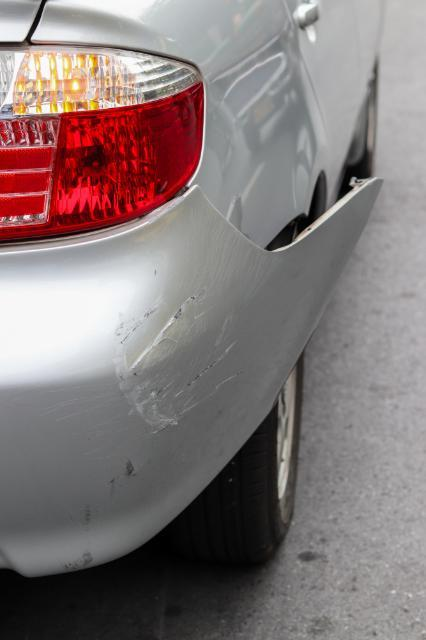dislocated part: (0, 170, 389, 572)
scratch: (51, 226, 269, 571)
